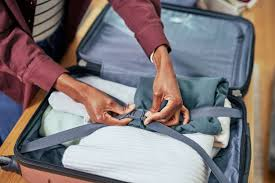suitcase: (1, 1, 256, 183)
